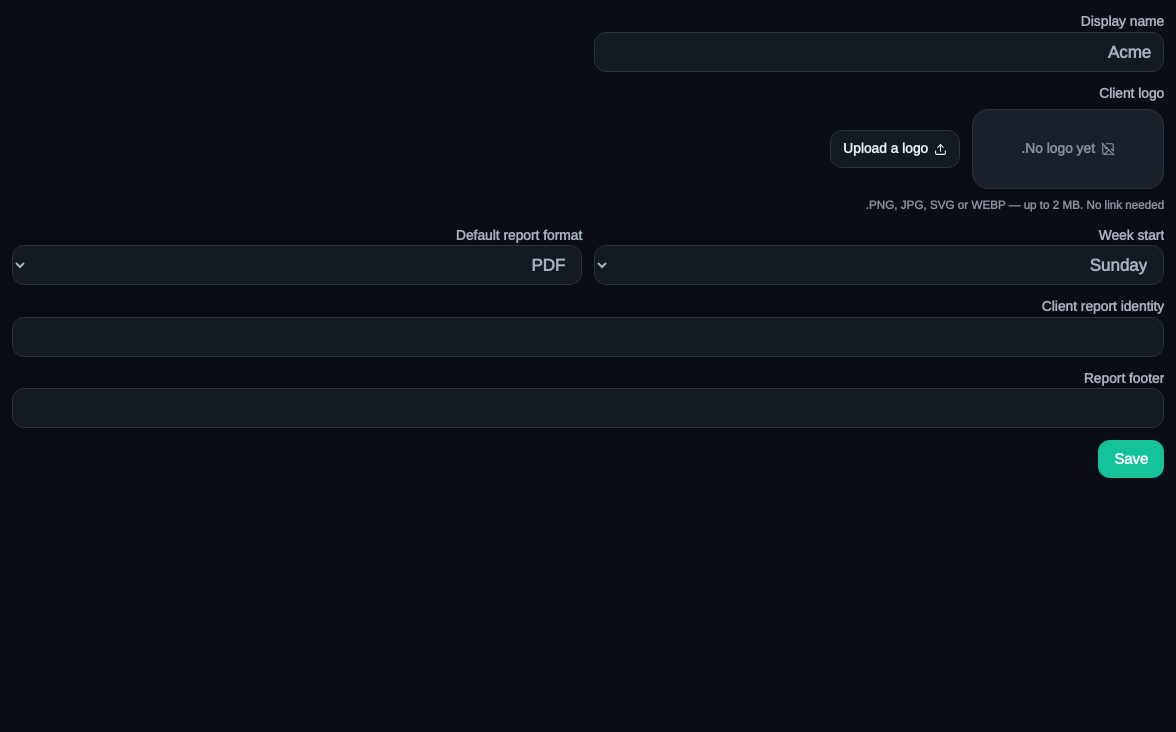
Test: the client settings form › says so when the save was refused
Click the button "Save" at (1131,459), box [1098,440,1164,478]
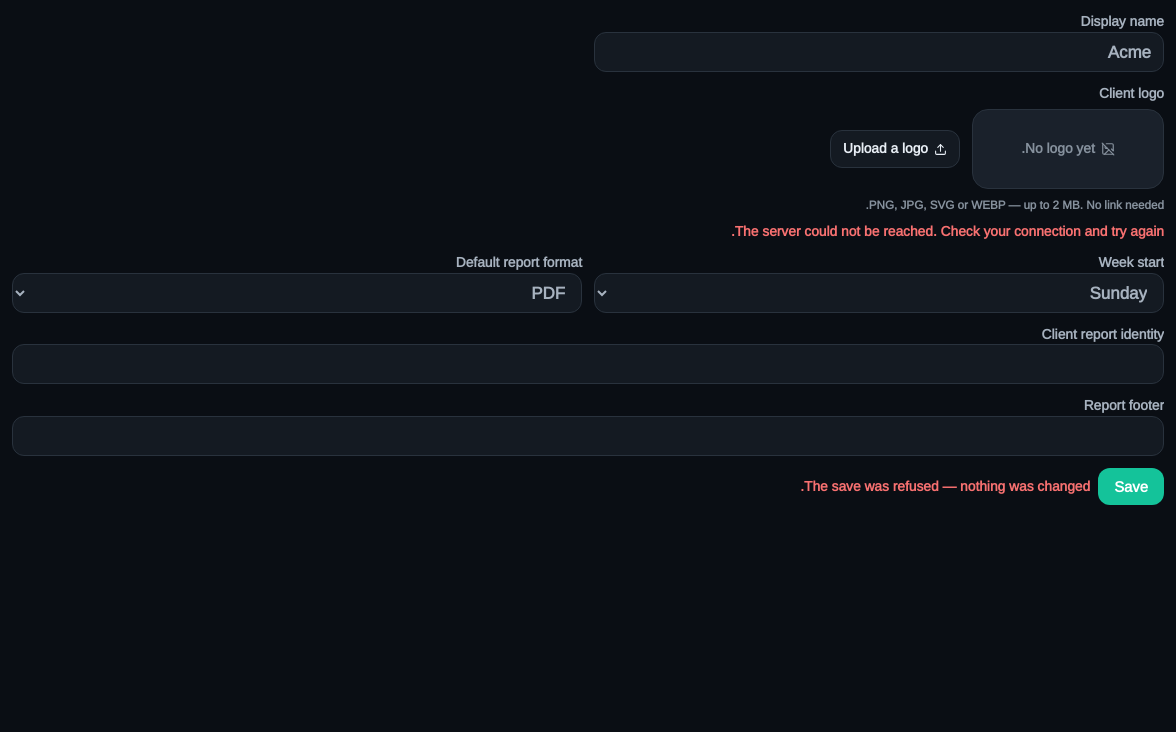
Expected: the text "The save was refused — nothing was changed." is shown, [800,477,1090,496]
